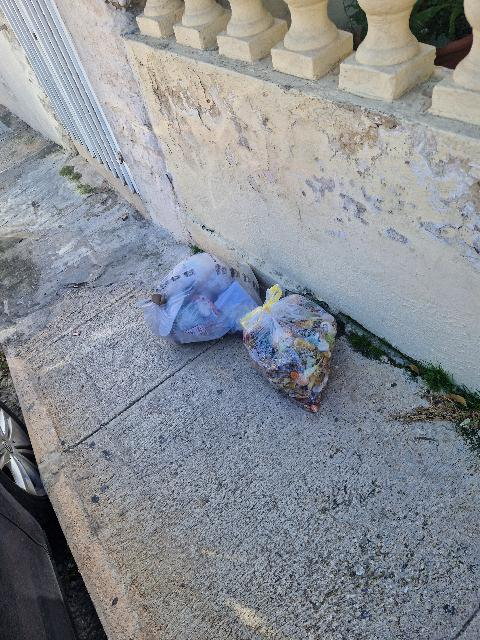Organic -White-: (241, 285, 336, 414)
Recyclable -Grey-: (136, 253, 262, 344)
